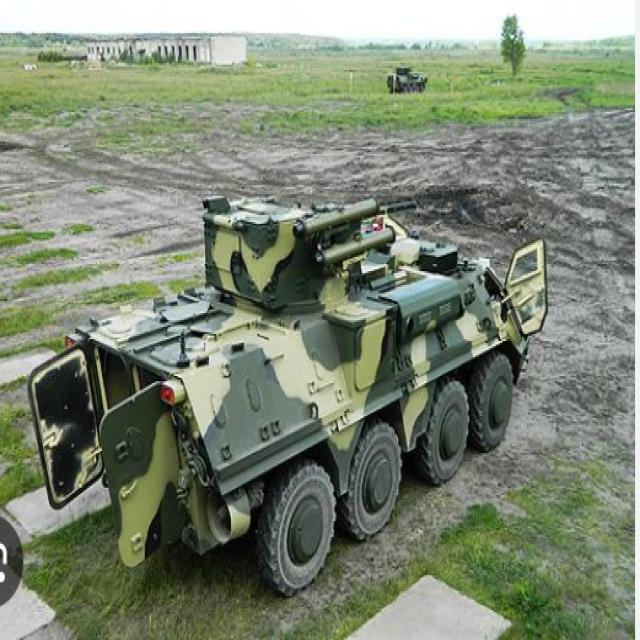MIL_APC: (66, 186, 530, 574)
